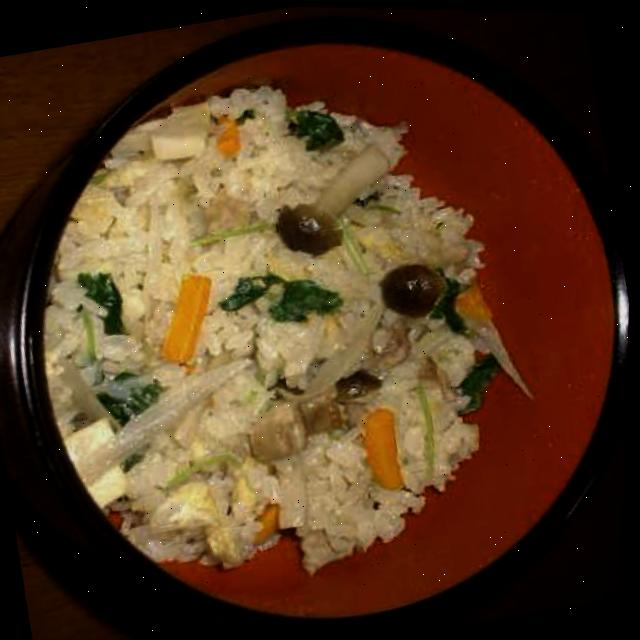米饭主食: (7, 36, 563, 608)
